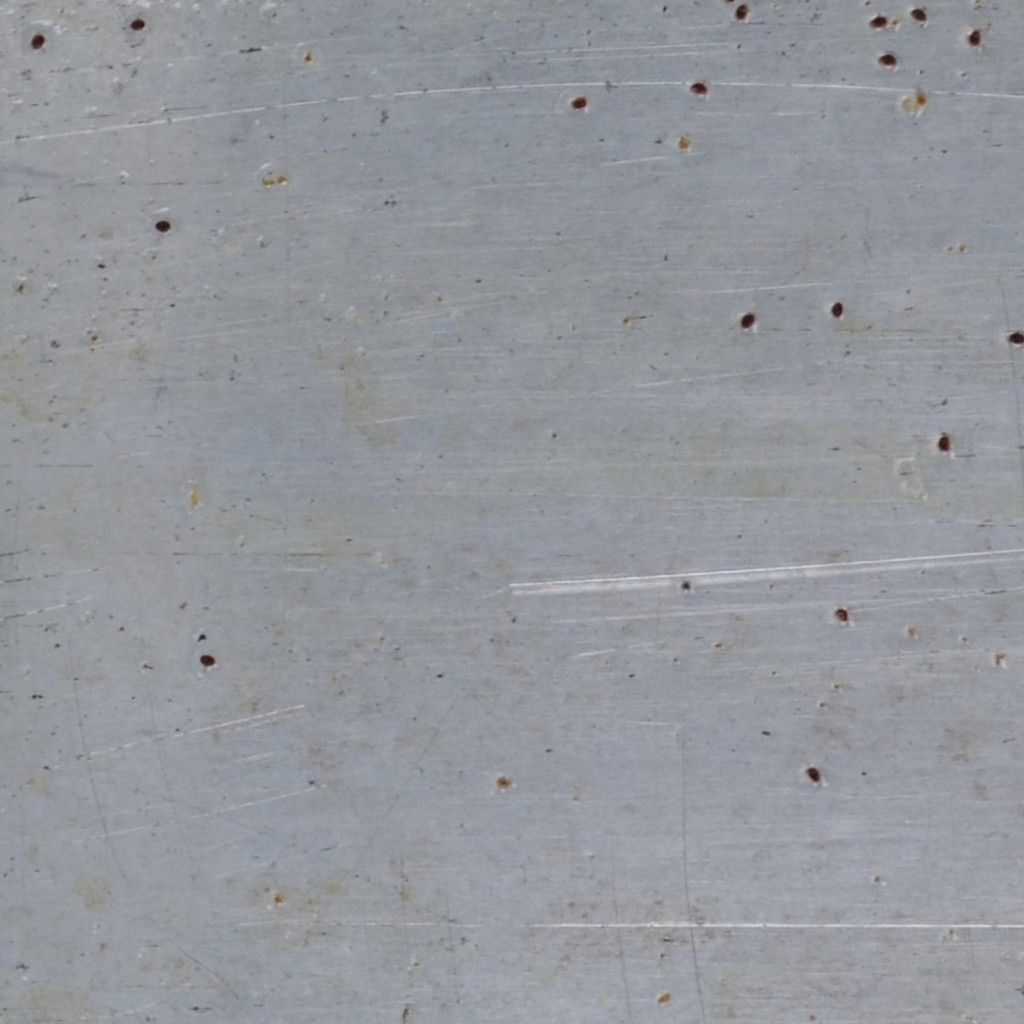varroa: (27, 31, 48, 54), (866, 11, 887, 33), (803, 765, 825, 786), (907, 4, 930, 24), (567, 93, 590, 113), (687, 77, 711, 96), (738, 309, 757, 333), (127, 15, 148, 36), (875, 51, 898, 69), (966, 25, 983, 49), (935, 431, 951, 456), (198, 651, 218, 669), (154, 216, 172, 235), (829, 299, 845, 320), (1005, 328, 1023, 346), (733, 1, 749, 20)
